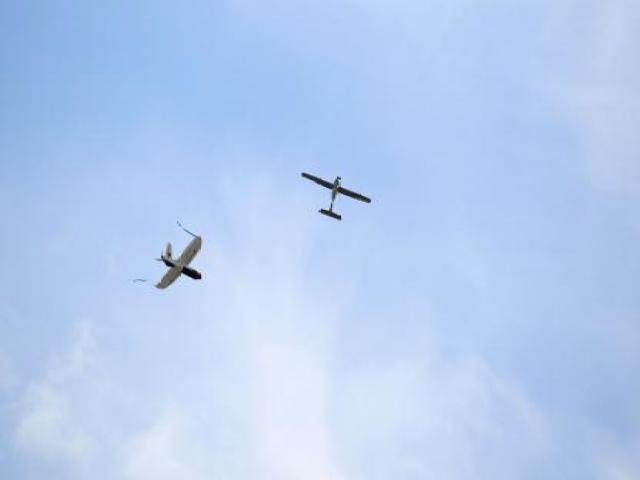uav: (302, 169, 372, 220), (152, 234, 205, 288)
